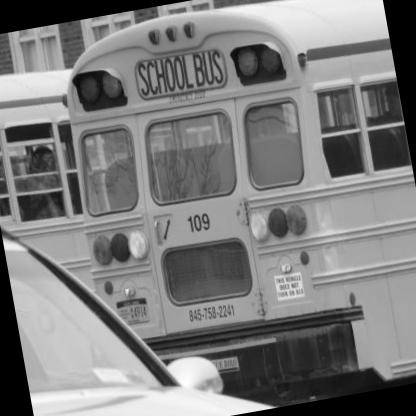bus: (30, 1, 416, 416)
